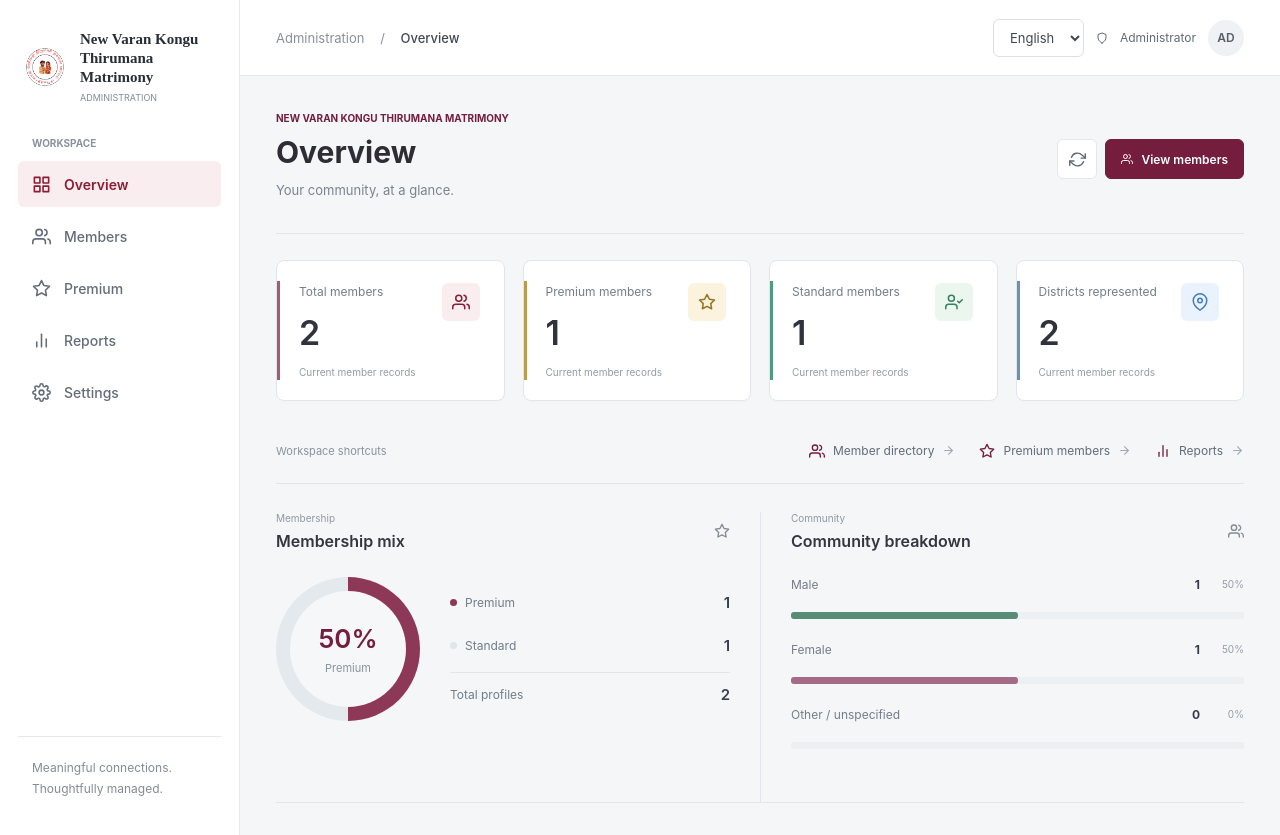
Scenario: loads members, filters the directory and isolates premium profiles
Click the link "Members" at point(80, 236), box [32,227,127,246]
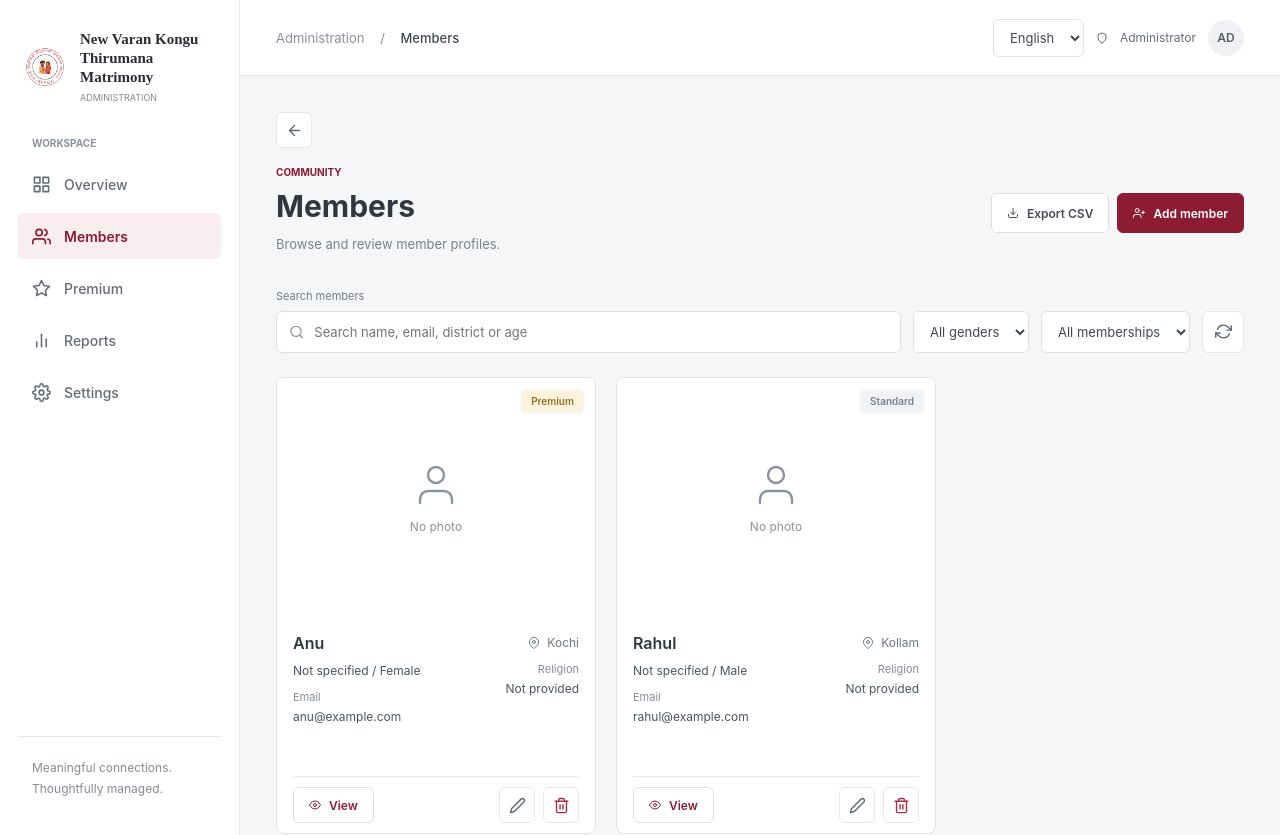
Type "Kollam" into the field labelled "Search members" at point(589, 332), box [314,312,864,352]
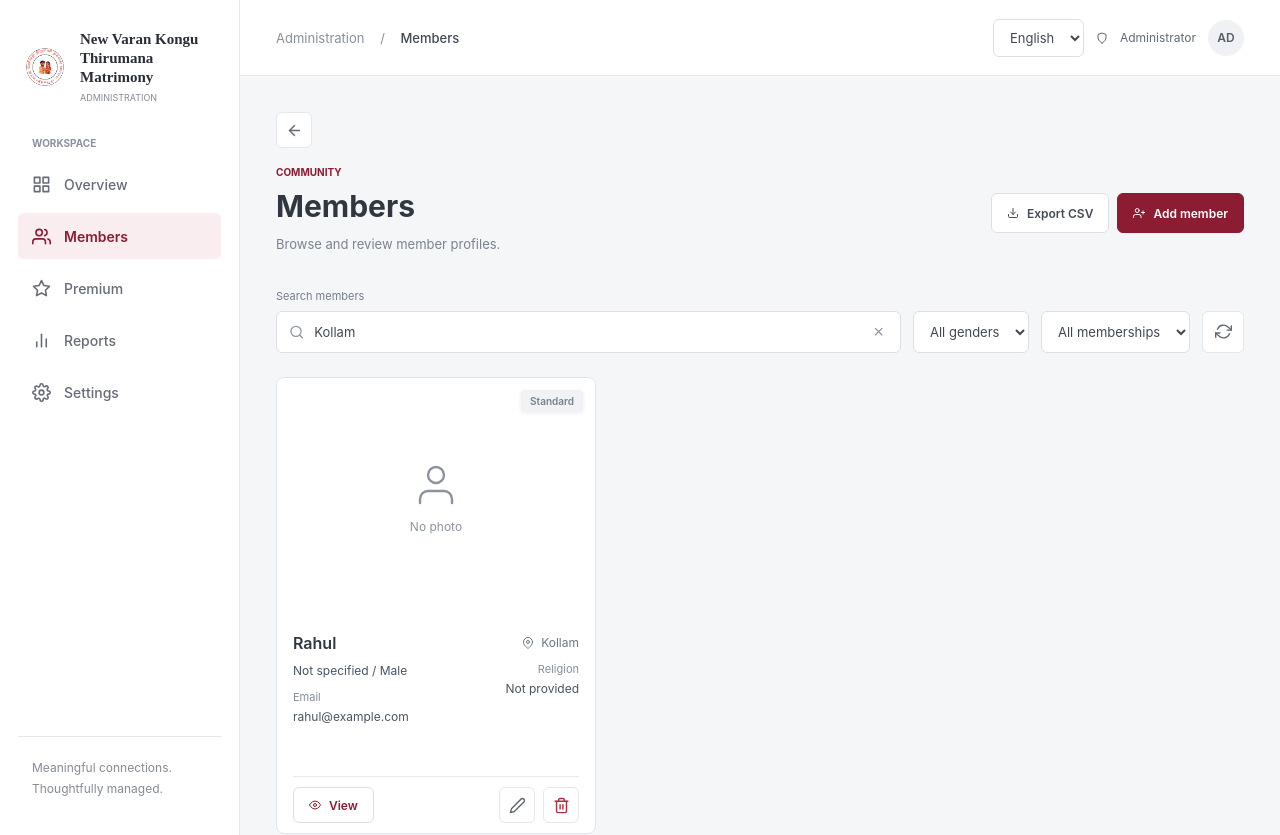
Expected: the heading "Rahul" is shown, [293,633,336,653]
Expected: the heading "Anu" is gone
Clear the field labelled "Search members" at point(589, 332), box [314,312,864,352]
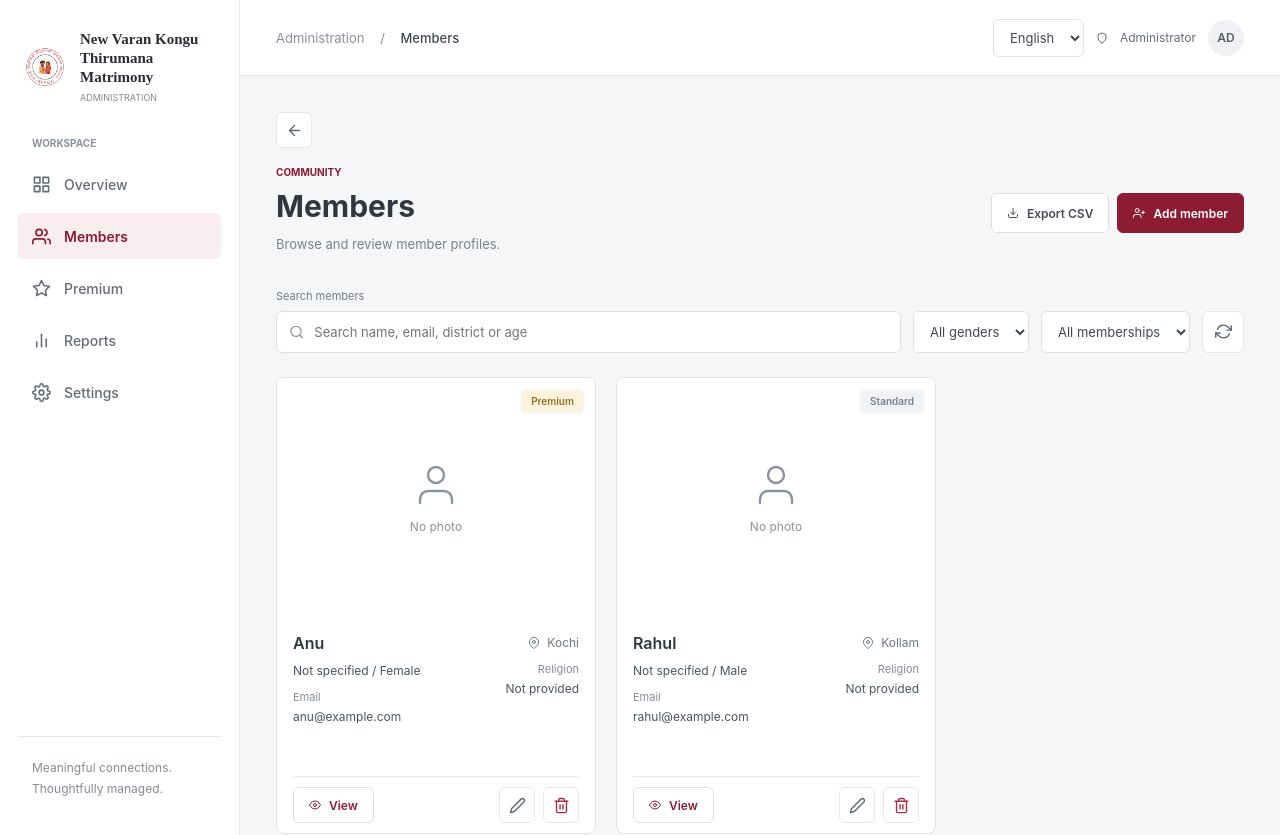
Click the link "Premium" at point(78, 288), box [32,279,123,298]
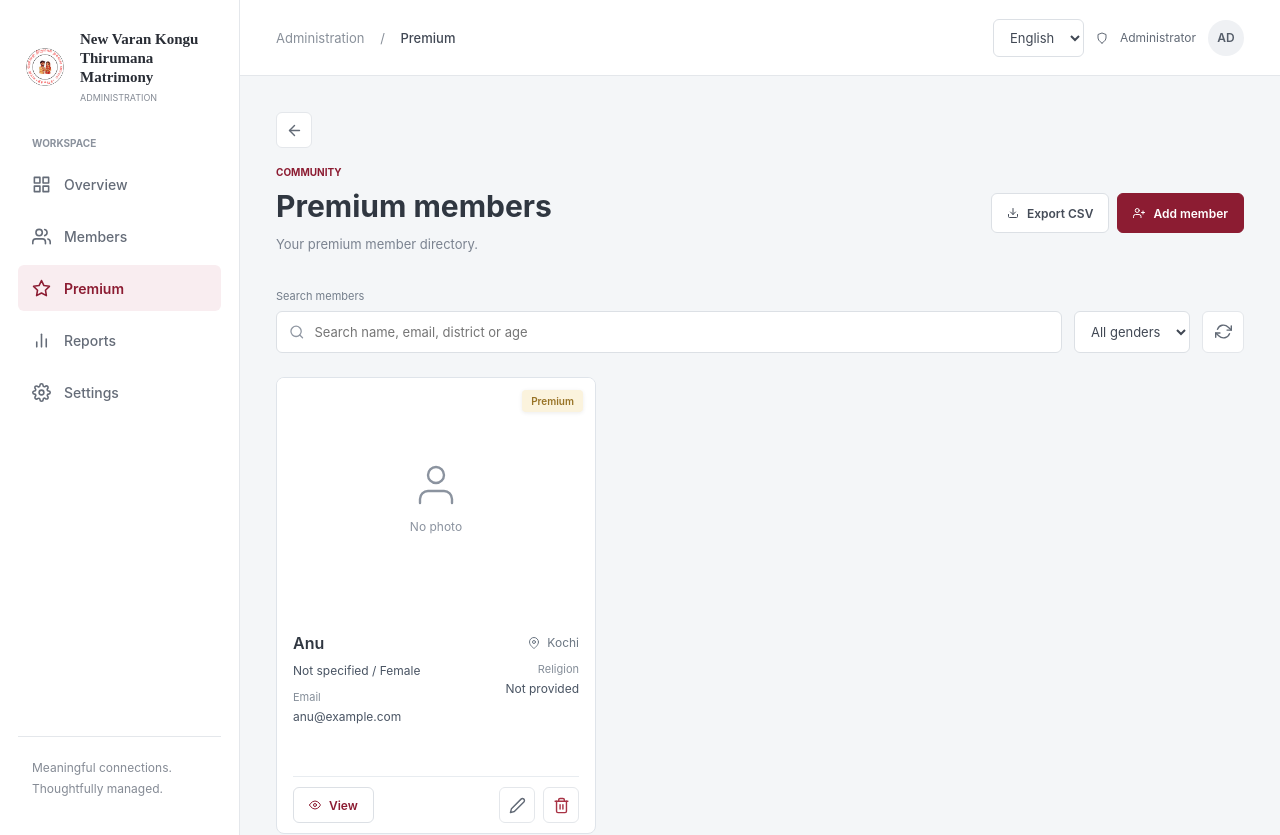
Expected: the heading "Anu" is shown, [293,633,324,653]
Expected: the heading "Rahul" is gone
